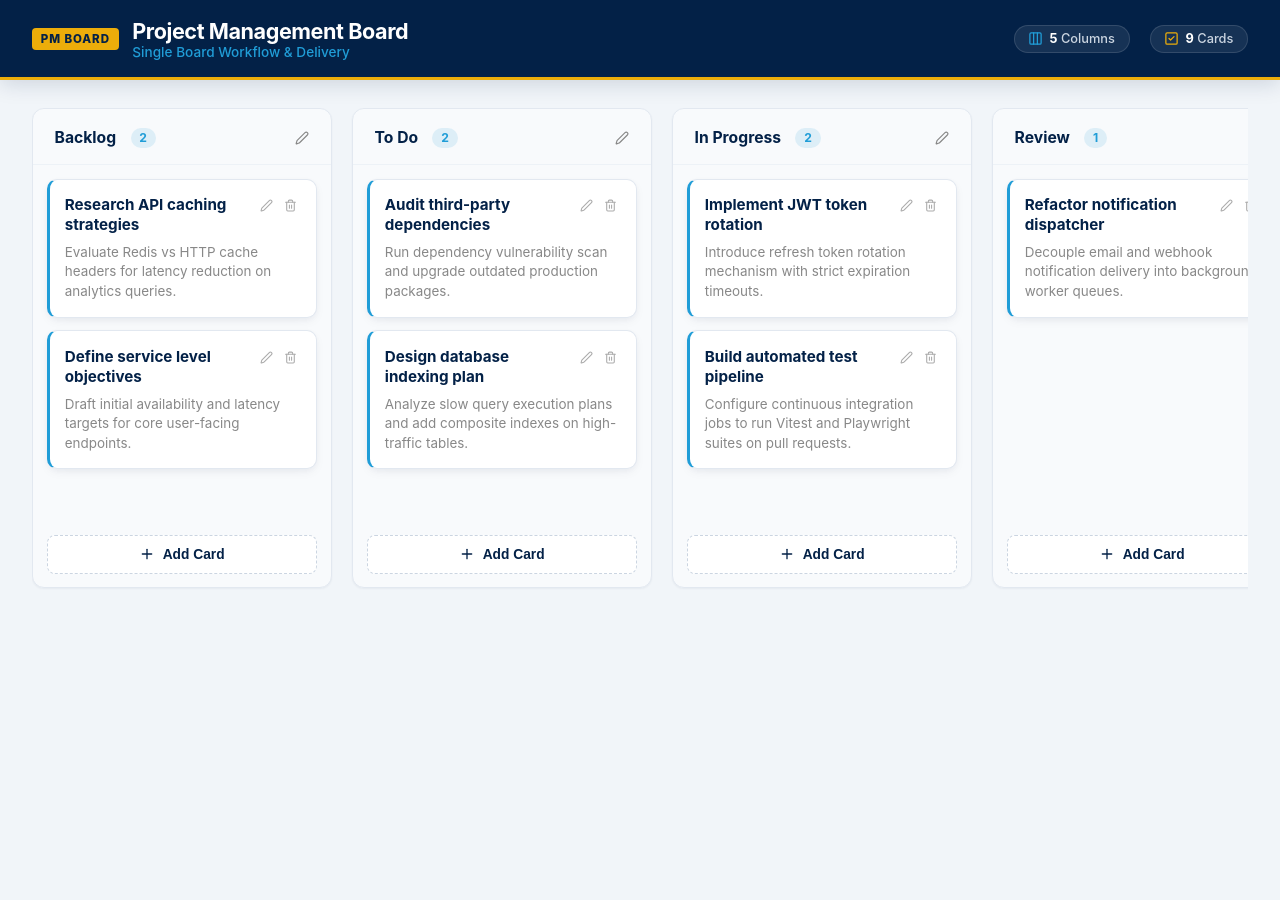
it: KanbanBoard UI Component › allows adding a new card to a column
Click the button with test id "add-card-col-backlog": x=182, y=554 x1=47 y1=535 x2=317 y2=574
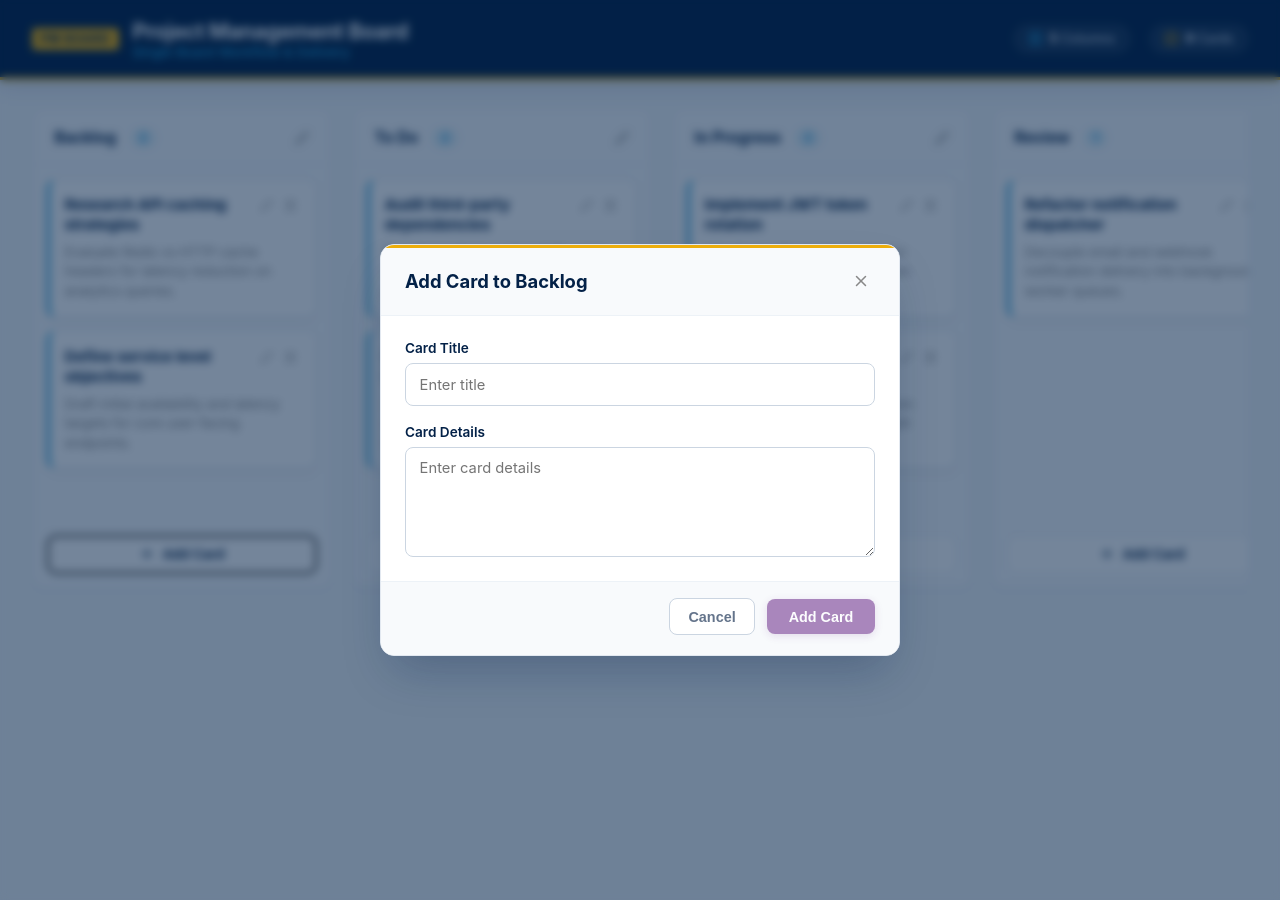
Result: the element with test id "card-modal" is shown
Result: the heading with test id "modal-title" reads "Add Card to Backlog" at x1=405 y1=270 x2=588 y2=292
In the field with test id "modal-title-input": x=640, y=384 x1=405 y1=363 x2=875 y2=406, type "New Feature Architecture"
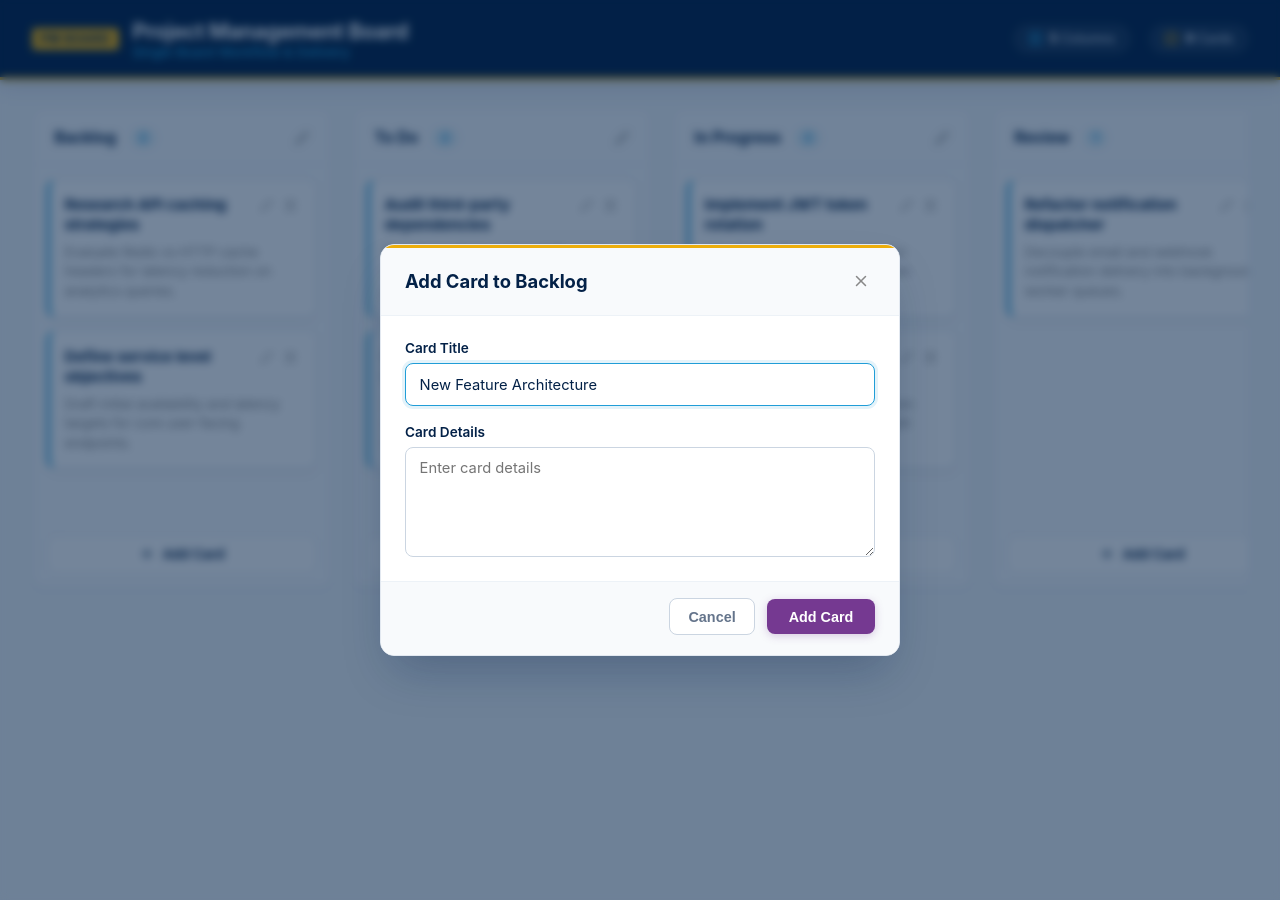
In the text box with test id "modal-details-input": x=640, y=502 x1=405 y1=447 x2=875 y2=557, type "Technical specifications for feature"
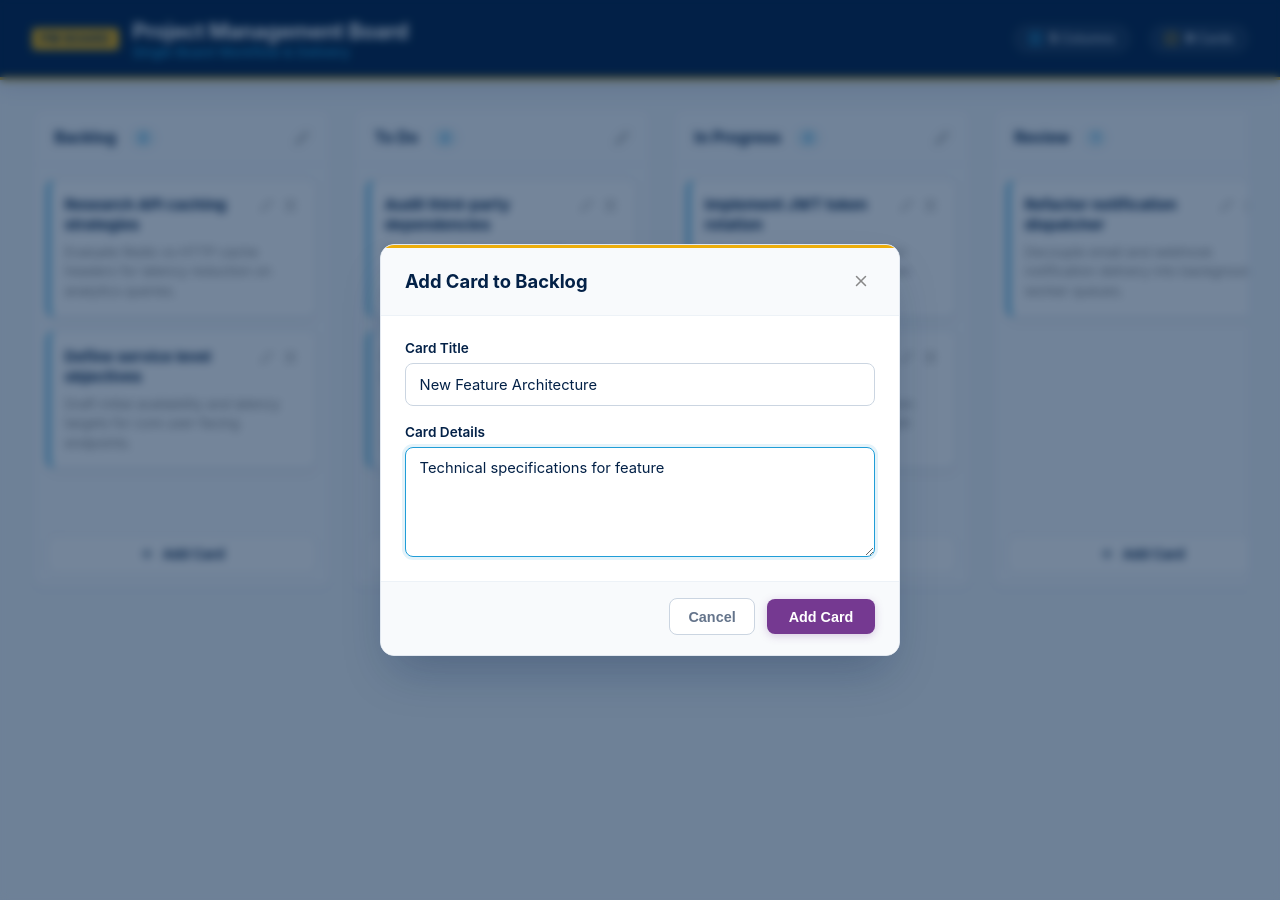
Click the button with test id "modal-submit-button": x=821, y=617 x1=767 y1=599 x2=875 y2=634
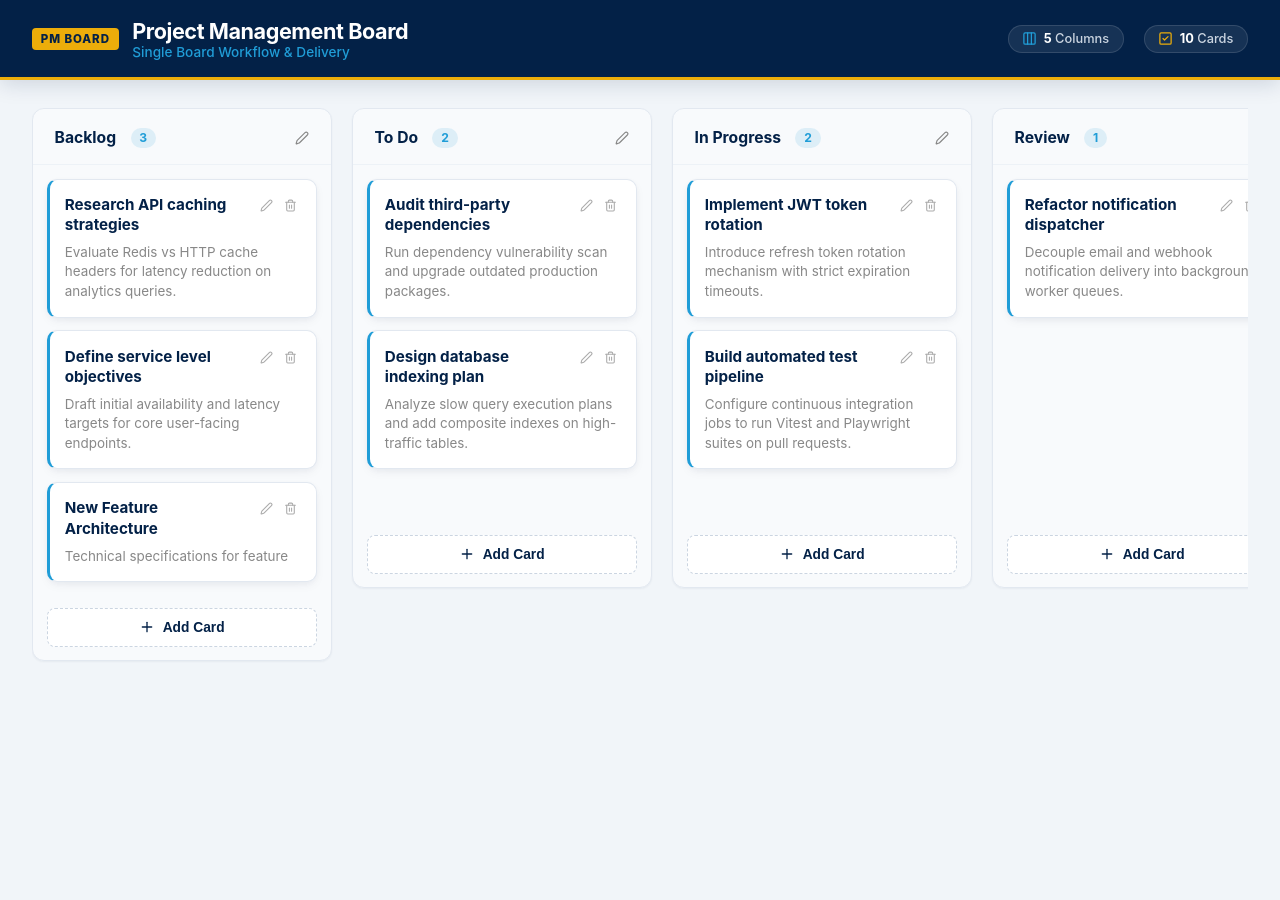
Result: the element with test id "card-modal" is gone
Result: the heading "New Feature Architecture" is shown at x1=65 y1=498 x2=158 y2=538
Result: the text "Technical specifications for feature" is shown at x1=65 y1=547 x2=301 y2=566
